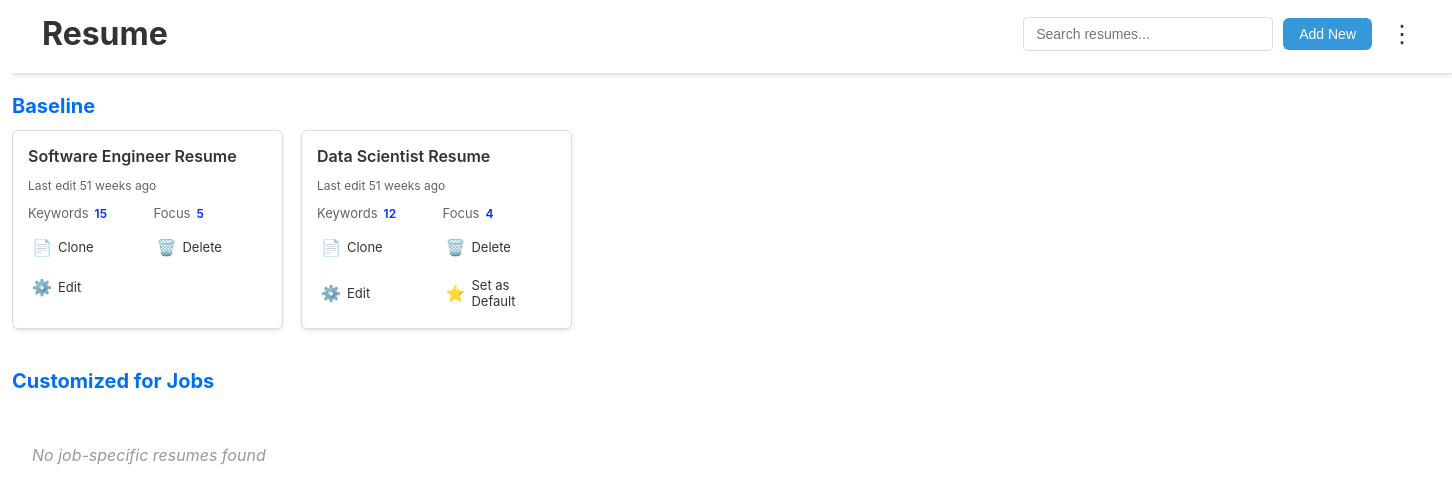
Test case: Resume Component › Search Functionality › clears search when clicking clear button
The image size is (1452, 482).
In the field with placeholder "Search resumes...": (1148, 34) 1023,16 -> 1273,50, type "test"
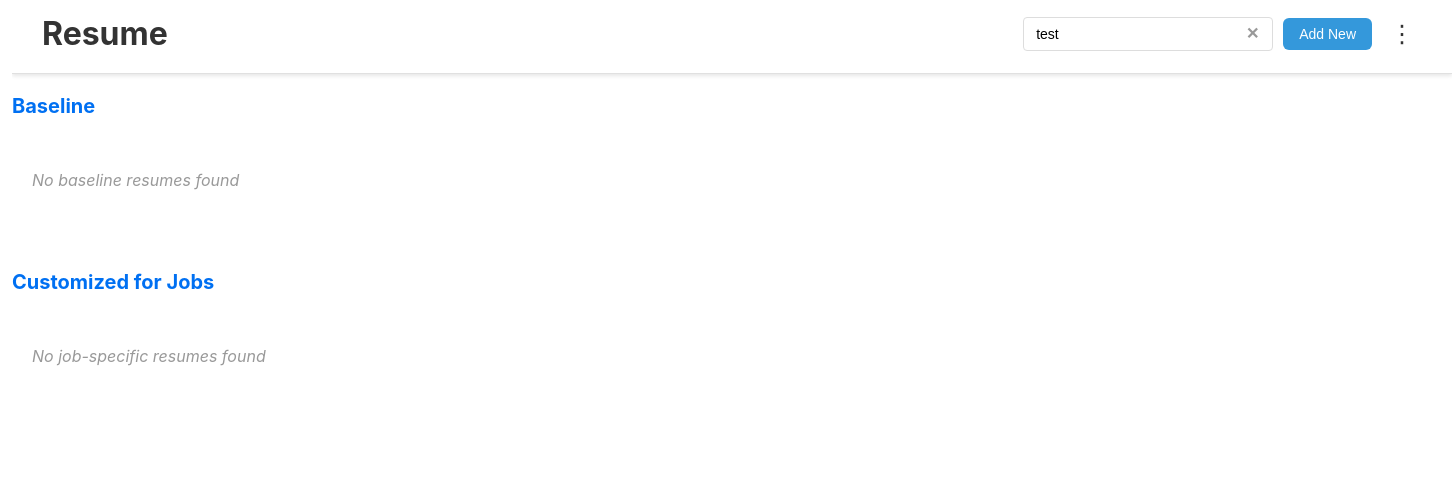
Click the button "✕": (1252, 34) 1240,24 -> 1265,44
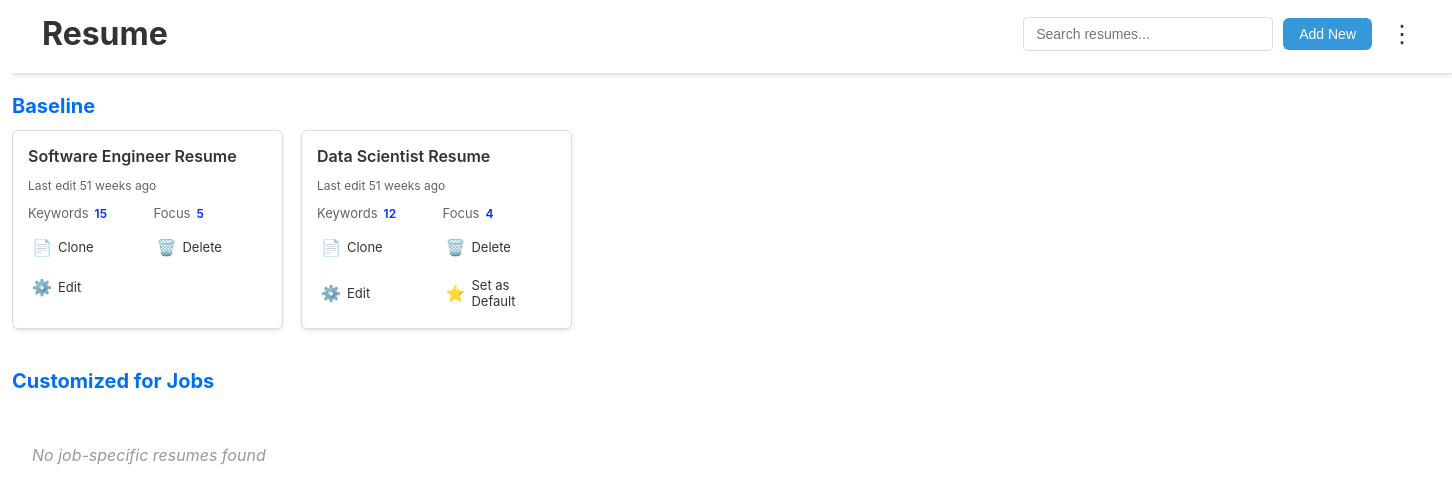
Now the field with placeholder "Search resumes..." is empty, box 1023,16 -> 1273,50
